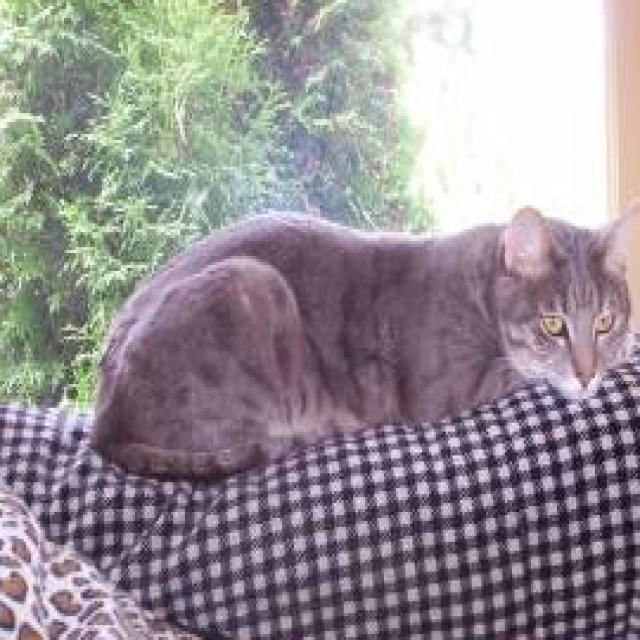Bengal: (90, 185, 640, 485)
